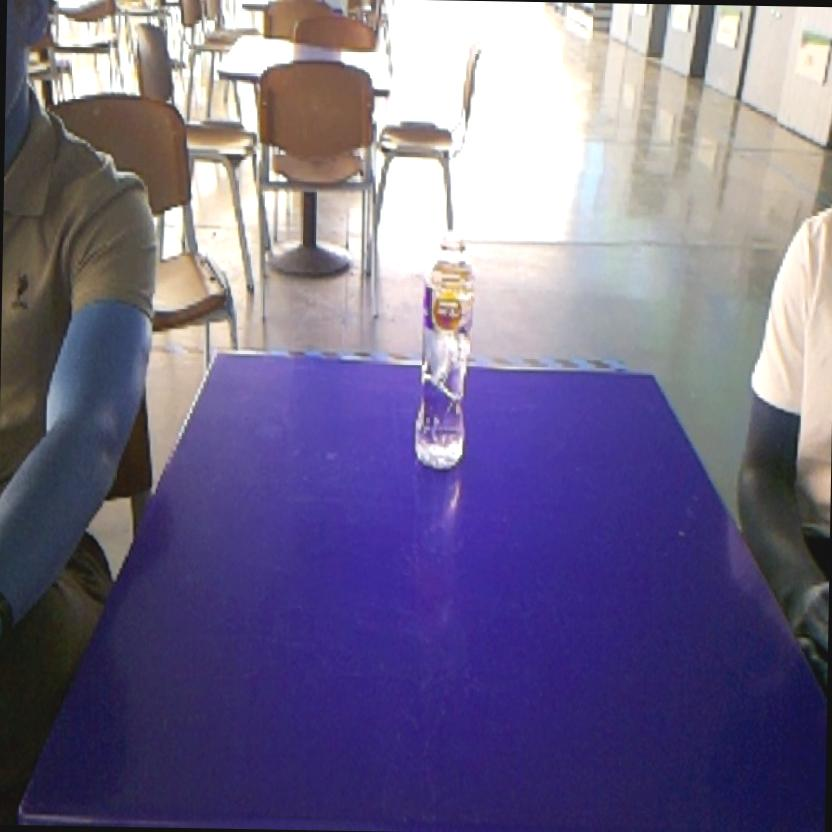no_cap: (408, 224, 486, 478)
